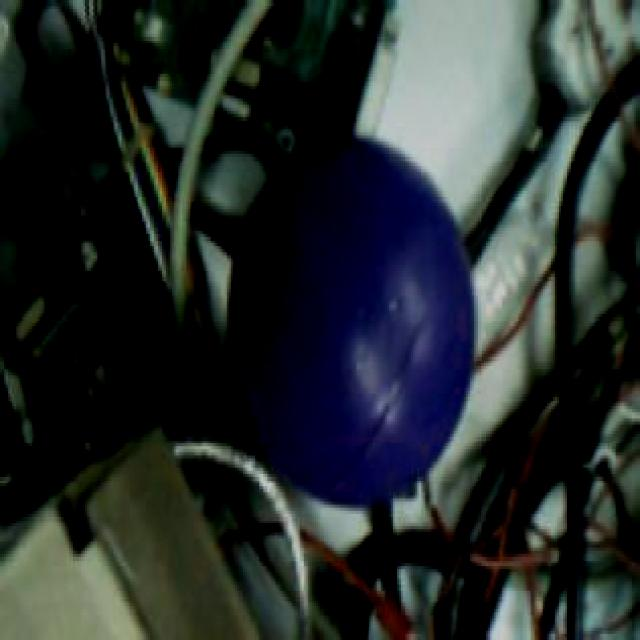BallPurple: (229, 132, 476, 509)
